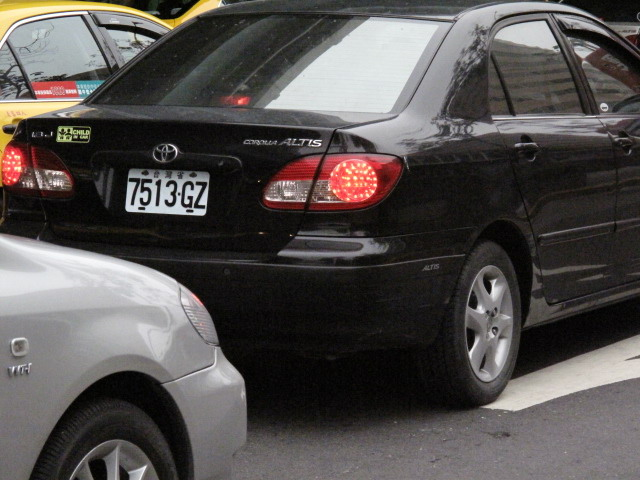plate: (124, 165, 211, 221)
